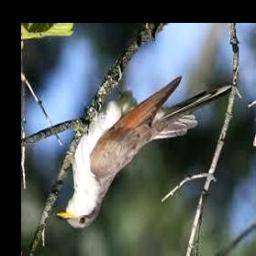Cuckoo: (55, 79, 233, 229)
